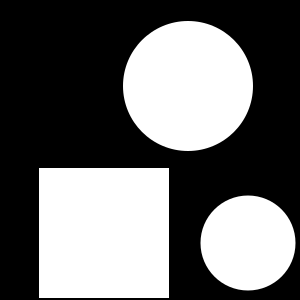circle: (39, 168, 169, 298)
rectangle: (123, 21, 253, 151), (200, 196, 296, 290), (256, 250, 286, 280)
